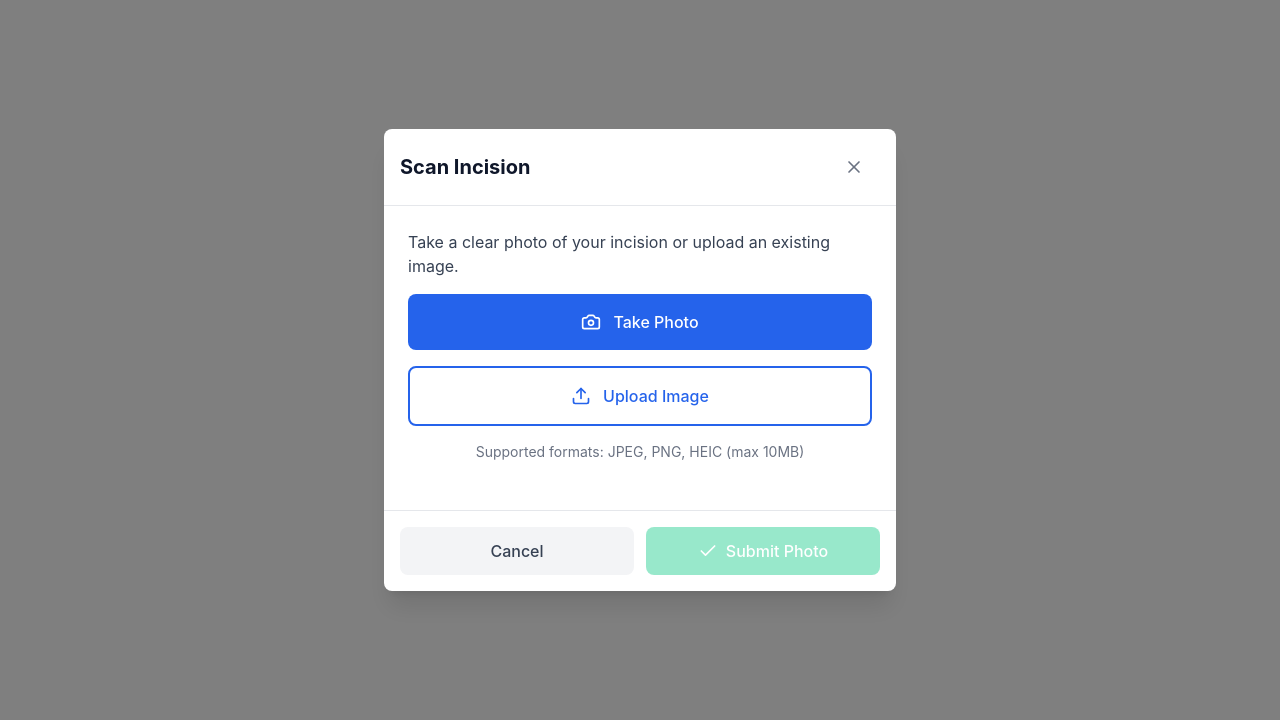
Test: PhotoCaptureModal › Camera Access Errors › should show error when camera is already in use
Click the button with aria-label "Open camera to take photo".
click(640, 322)  # box [408,294,872,350]
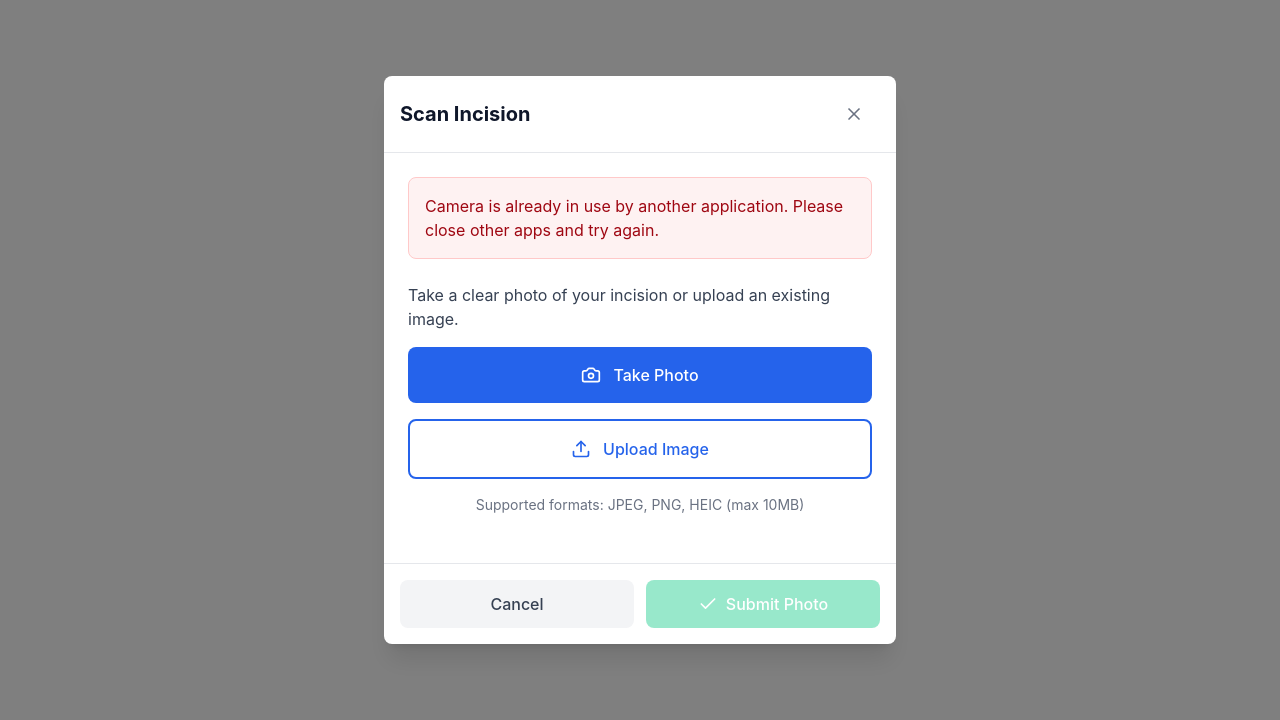
Now the text "Camera is already in use" is shown, box [425,196,843,240]
